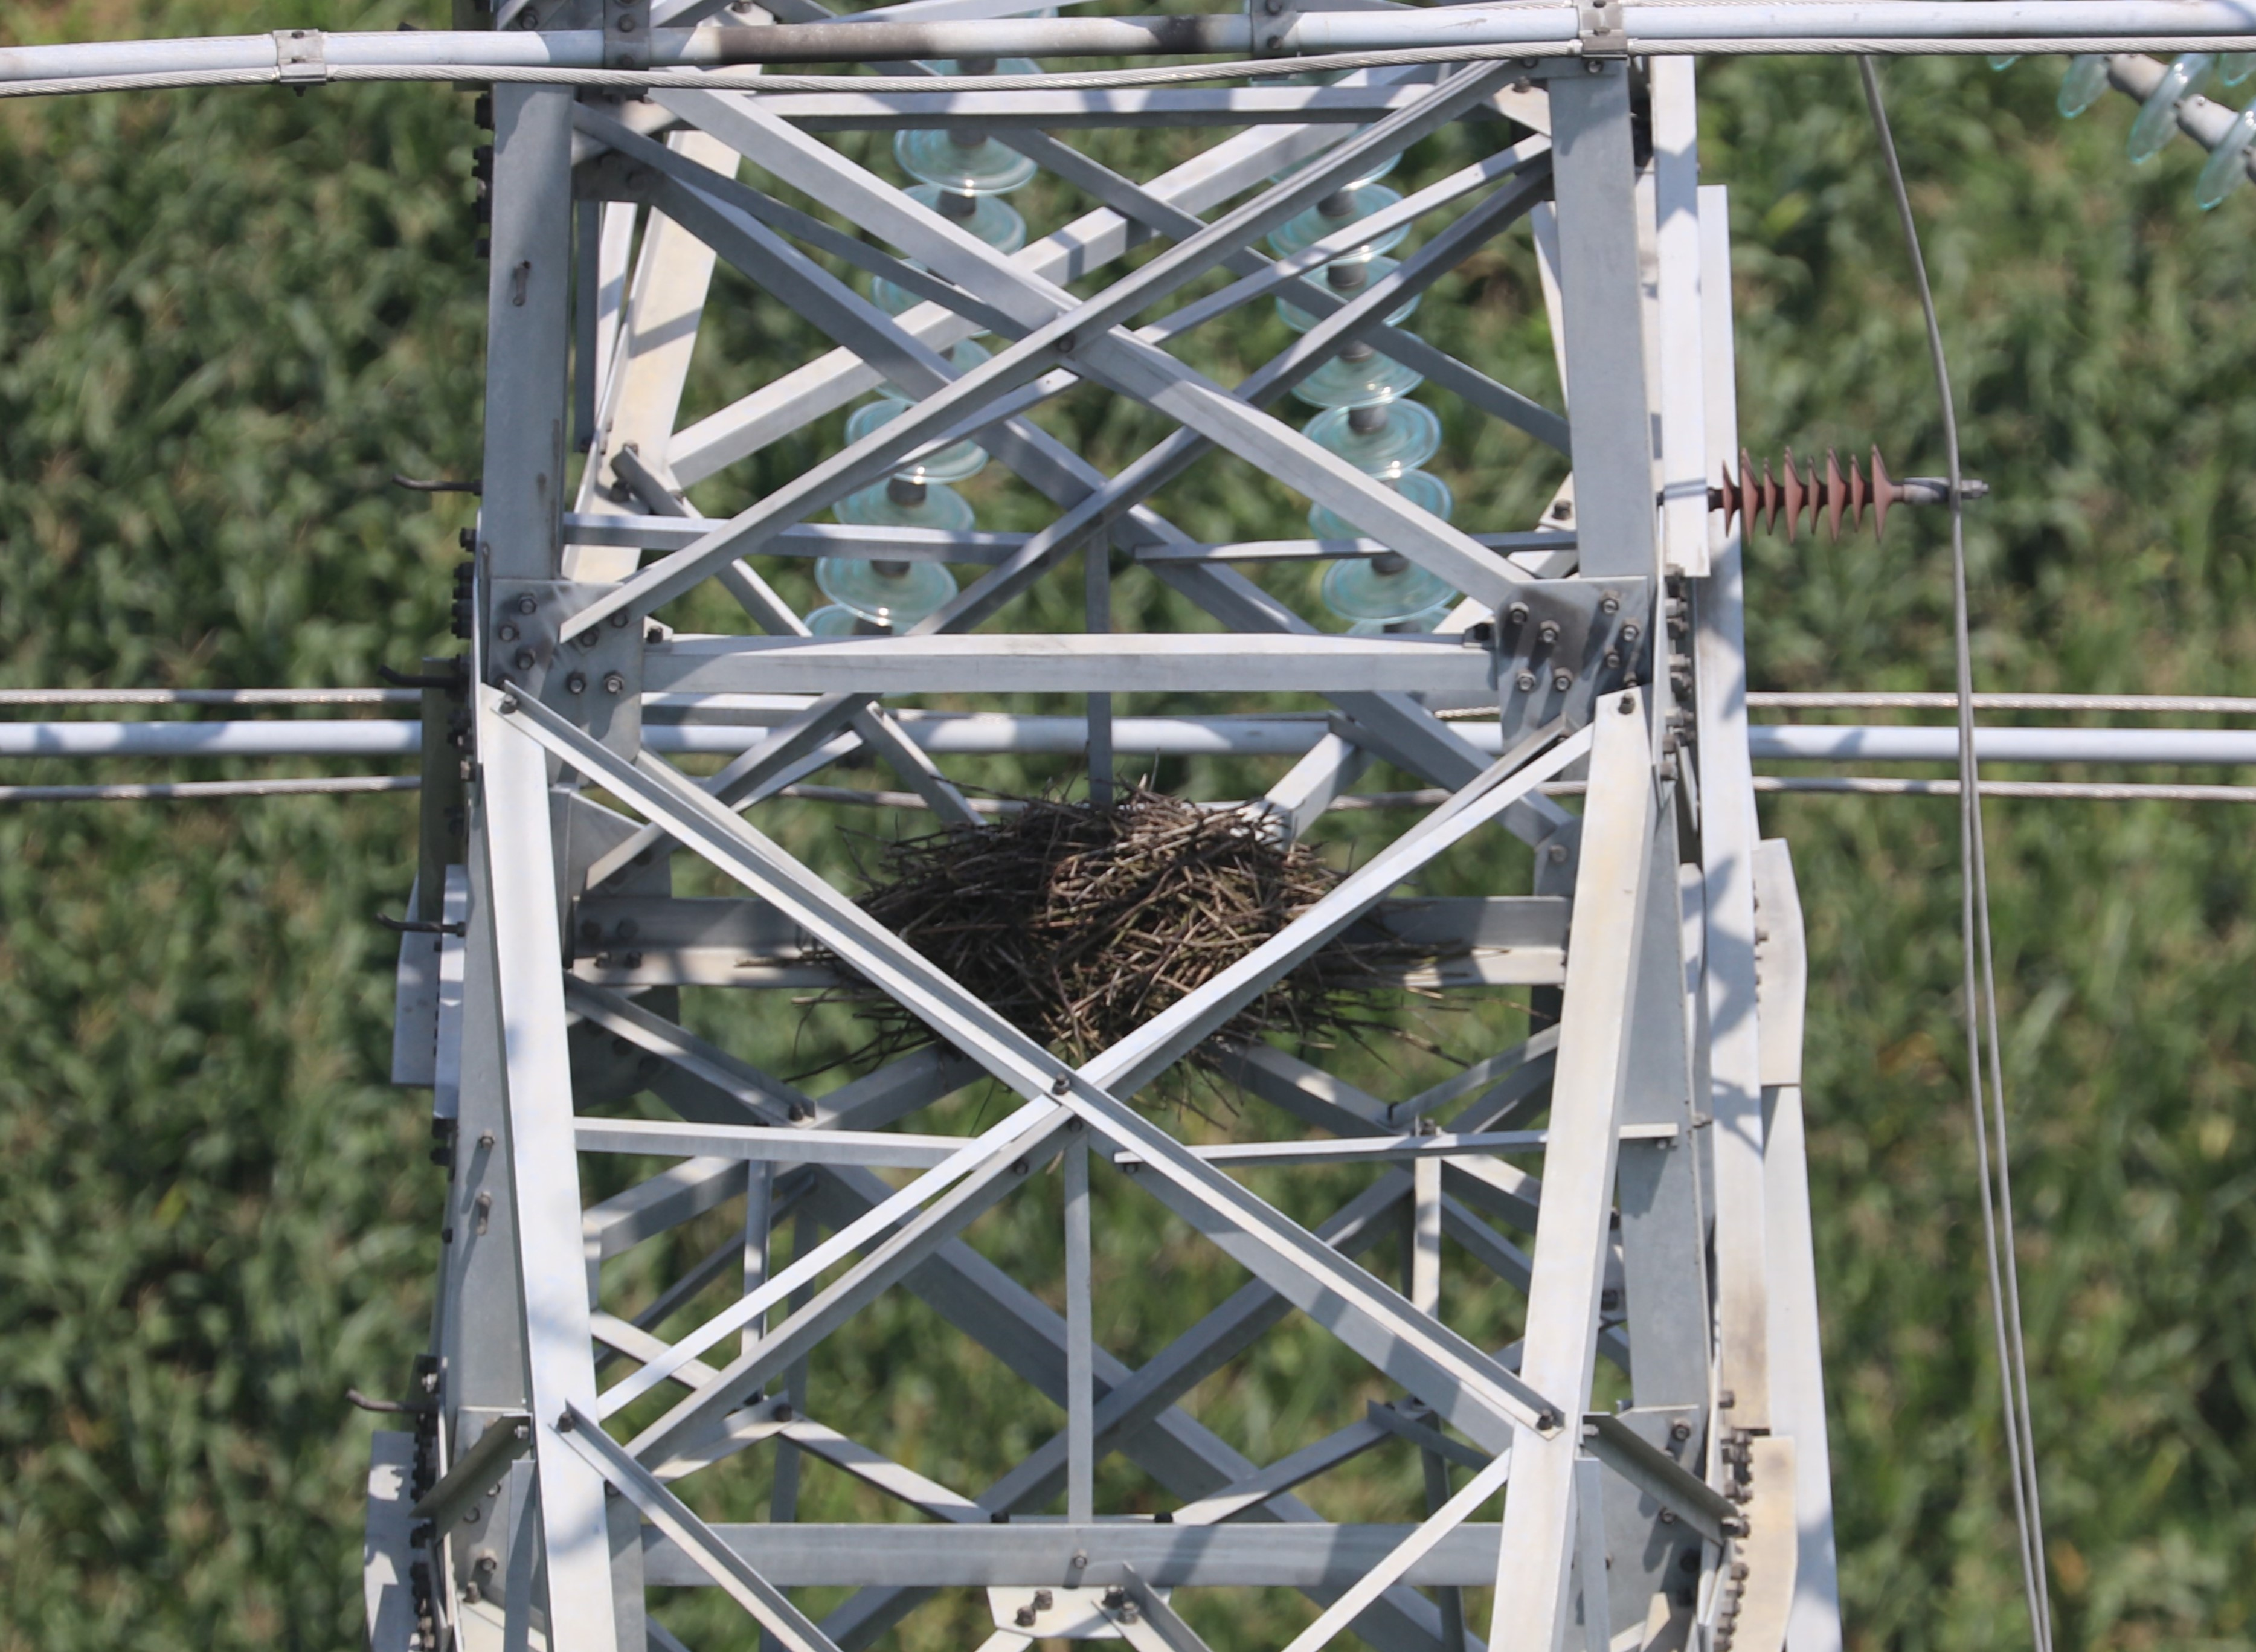niaowo: (842, 748, 1422, 1112)
